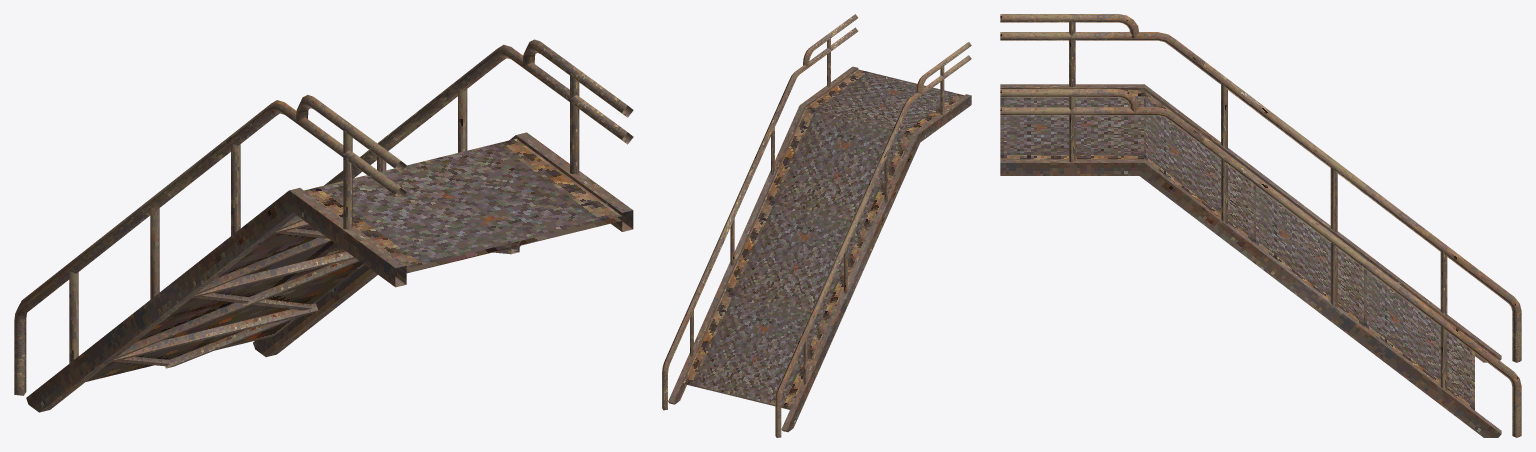
File: bridges_stairs_2.glb
3 views of the same model, side by side, from view 1: azimuth 30°, elevation 25°; view 2: azimuth 150°, elevation 25°; view 3: azimuth 270°, elevation 25° (orthographic). The views are drawn at different scales.
Visible parts, largest first — view 1: Bridges_stairs_2; view 2: Bridges_stairs_2; view 3: Bridges_stairs_2.
Part boxes in pixels (x1,y1,x2,y2): Bridges_stairs_2: (14,39,633,412); Bridges_stairs_2: (662,14,971,437); Bridges_stairs_2: (1000,14,1521,437).
Size of the model in its own units: 2.1 by 4.29 by 5.84.
1 material, 1 textured.
